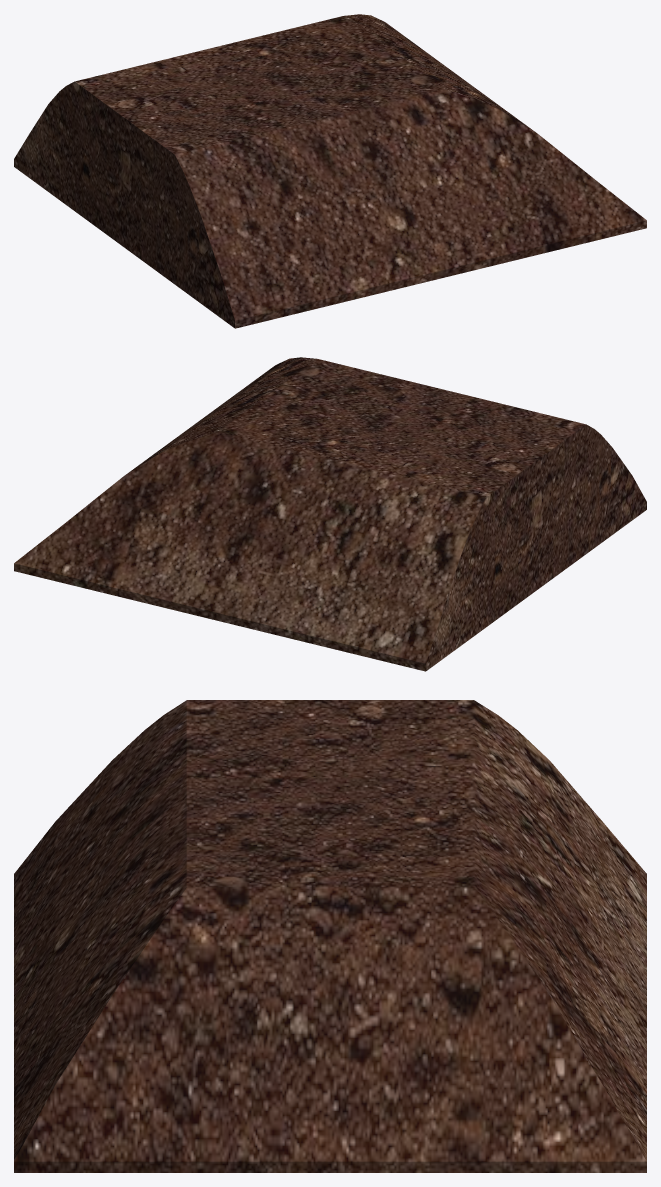
3 views of the same model, one above another, from view 1: azimuth 30°, elevation 25°; view 2: azimuth 150°, elevation 25°; view 3: azimuth 270°, elevation 25° (orthographic). The views are drawn at different scales.
Visible parts, largest first — view 1: Box001; view 2: Box001; view 3: Box001.
Boxes of the visible parts, left/top/right/bottom form: Box001: left=14, top=14, right=646, bottom=328; Box001: left=14, top=357, right=646, bottom=671; Box001: left=14, top=700, right=646, bottom=1172.
Bounding box in the file's own units: 129 × 38.76 × 120.
1 material, 1 textured.
